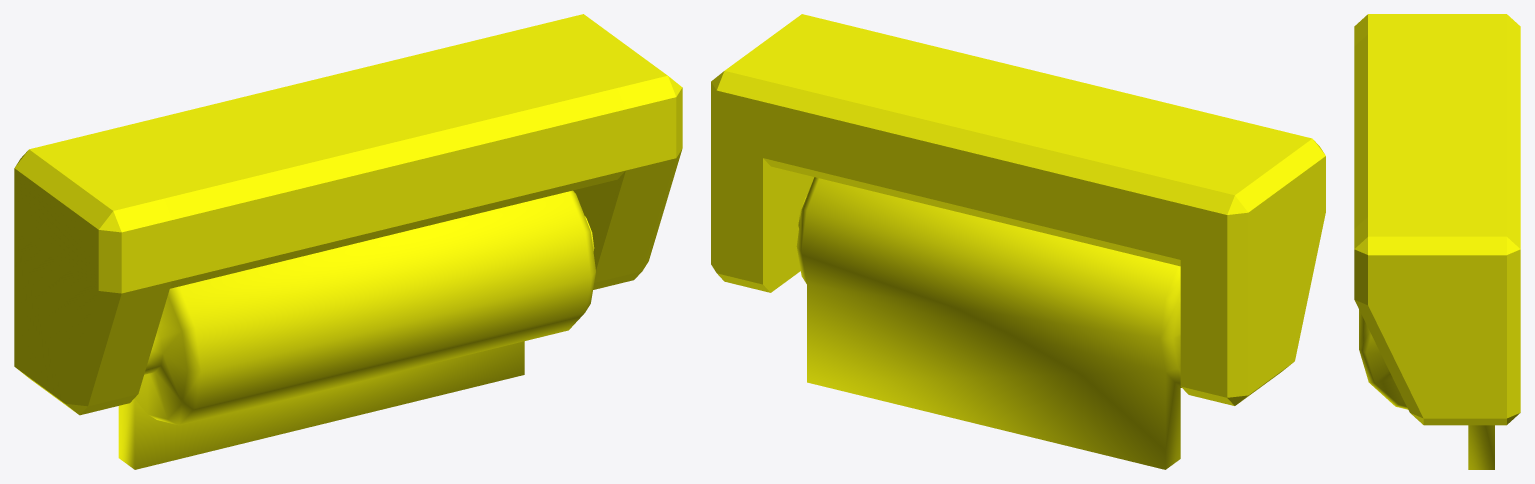
The model's file is kaykit-shelf-papertowel.glb.
The picture shows the model from 3 angles, left to right: view 1: azimuth 30°, elevation 25°; view 2: azimuth 150°, elevation 25°; view 3: azimuth 270°, elevation 25°; orthographic projection. The views are drawn at different scales.
Visible parts, largest first — view 1: shelf_papertowel; view 2: shelf_papertowel; view 3: shelf_papertowel.
Boxes of the visible parts, x1,y1,x2,y2 form: shelf_papertowel: (14,14,682,469); shelf_papertowel: (711,14,1325,469); shelf_papertowel: (1354,14,1520,469).
Bounding box in the file's own units: 2 × 1.06 × 0.5999.
